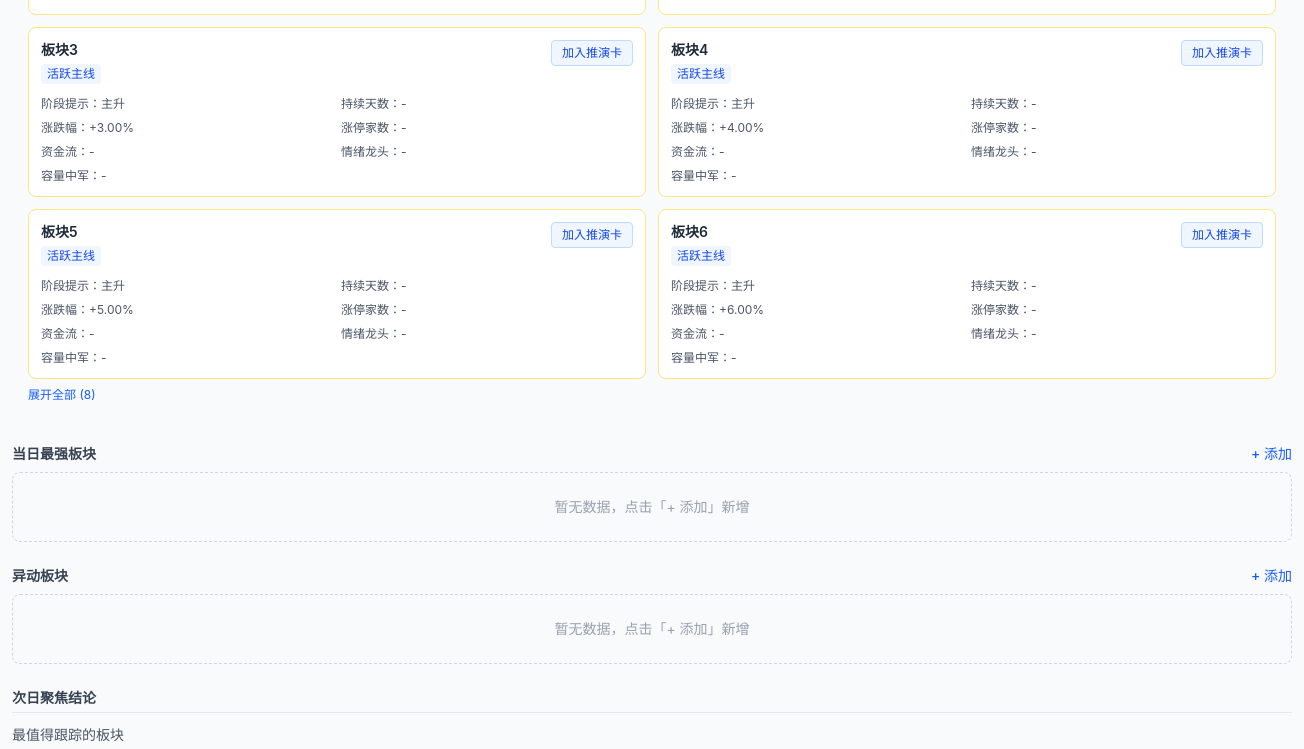
Scenario: StepSectors › collapses projection candidates when more than 6
(page scrolled)
expect the text "板块6" is shown: met, box [671,223,708,240]
expect the text "板块7" is not shown: met
Click the button "展开全部 (8)": (62, 395) [28,387,96,403]
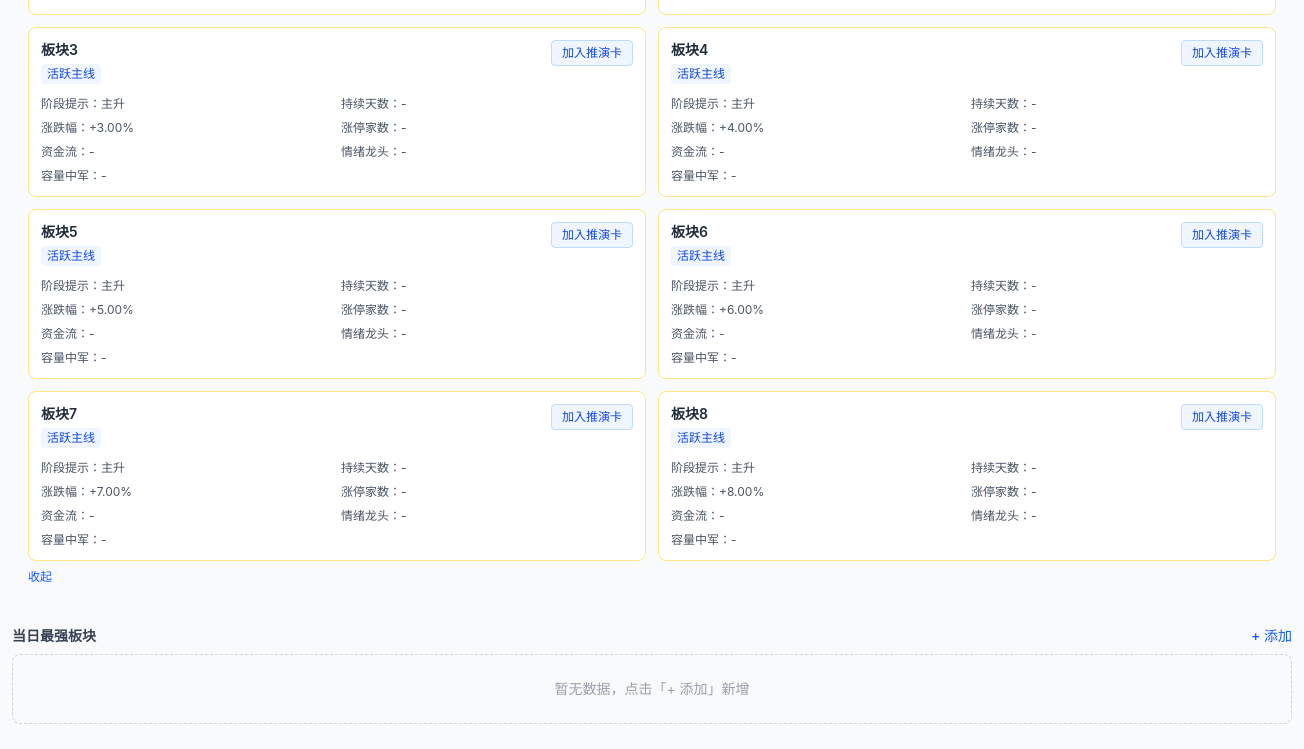
expect the text "板块7" is shown: met, box [41,405,77,422]
expect the text "板块8" is shown: met, box [671,405,708,422]
Click the button "展开全部 (8)": (40, 577) [28,569,52,585]
(page scrolled)
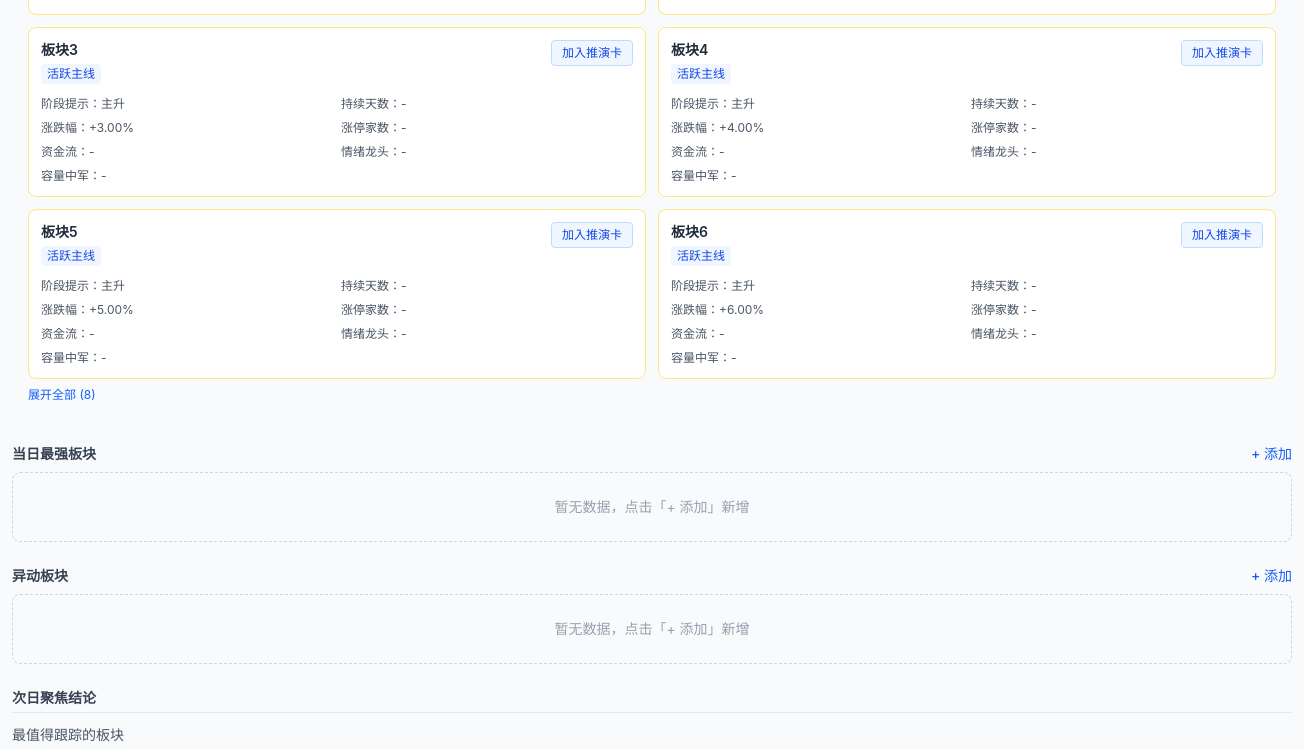
expect the text "板块7" is gone: met
